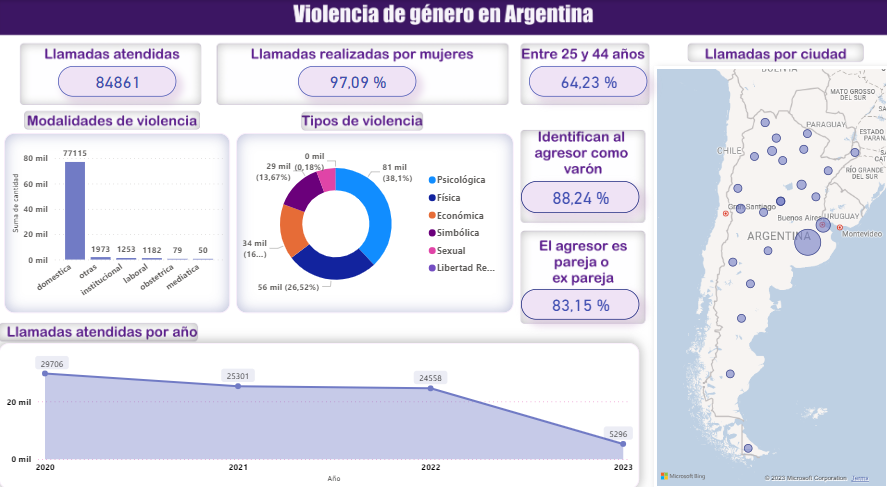

The dashboard page shown, as its layout file describes it:
{"tool":"powerbi","page":{"name":"Página 1","canvas":[1280,720],"ordinal":0},"visuals":[{"type":"map","fields":{"Category":["victimas_violencia tabla_violencia.provincia"],"Size":["CountNonNull(victimas_violencia tabla_violencia.provincia)"]},"box":[941.4,94.3,338.6,608.6],"z":0},{"type":"card","fields":{"Values":["victimas_violencia tabla_violencia.total_llamadas"]},"box":[84.3,94.3,170,44.3],"z":1000},{"type":"card","fields":{"Values":["victimas_violencia tabla_violencia.porcentaje_mujeres"]},"box":[430,94.3,170,44.3],"z":2000},{"type":"card","fields":{"Values":["victimas_violencia tabla_violencia.porcentaje_jovenes"]},"box":[761.4,94.3,170,44.3],"z":3000},{"type":"card","fields":{"Values":["victimas_violencia tabla_violencia.porcentaje_varon"]},"box":[750,260,170,45.7],"z":4000},{"type":"card","fields":{"Values":["victimas_violencia tabla_violencia.porcentaje_pareja_ex"]},"box":[750,415.7,170,44.3],"z":5000},{"type":"donutChart","fields":{"Category":["tipos_de_violencia.tipo_violencia"],"Y":["Sum(tipos_de_violencia.cantidad)"]},"box":[340,191.4,398.6,258.6],"z":6000},{"type":"stackedAreaChart","fields":{"Category":["victimas_violencia tabla_violencia.fecha.Variación.Jerarquía de fechas.Año","victimas_violencia tabla_violencia.fecha.Variación.Jerarquía de fechas.Mes"],"Y":["victimas_violencia tabla_violencia.total_llamadas"]},"box":[0,492.9,920,210],"z":7000},{"type":"clusteredColumnChart","fields":{"Y":["Sum(modalidades_de_violencia.cantidad)"],"Category":["modalidades_de_violencia.modalidad"]},"box":[7.2,191.1,324.8,258.7],"z":8000}]}

Visuals, with their boxes in screenshot pixels (x1, y1, x2, y2), scaled from the page's 1280x720 canvas onto the 887x487 screenshot:
map - victimas_violencia tabla_violencia.provincia x CountNonNull(victimas_violencia tabla_violencia.provincia): rect(652, 64, 886, 475)
card - victimas_violencia tabla_violencia.total_llamadas: rect(58, 64, 176, 94)
card - victimas_violencia tabla_violencia.porcentaje_mujeres: rect(298, 64, 416, 94)
card - victimas_violencia tabla_violencia.porcentaje_jovenes: rect(528, 64, 645, 94)
card - victimas_violencia tabla_violencia.porcentaje_varon: rect(520, 176, 638, 207)
card - victimas_violencia tabla_violencia.porcentaje_pareja_ex: rect(520, 281, 638, 311)
donutChart - tipos_de_violencia.tipo_violencia x Sum(tipos_de_violencia.cantidad): rect(236, 129, 512, 304)
stackedAreaChart - victimas_violencia tabla_violencia.fecha.Variación.Jerarquía de fechas.Año x victimas_violencia tabla_violencia.fecha.Variación.Jerarquía de fechas.Mes: rect(0, 333, 638, 475)
clusteredColumnChart - Sum(modalidades_de_violencia.cantidad) x modalidades_de_violencia.modalidad: rect(5, 129, 230, 304)
